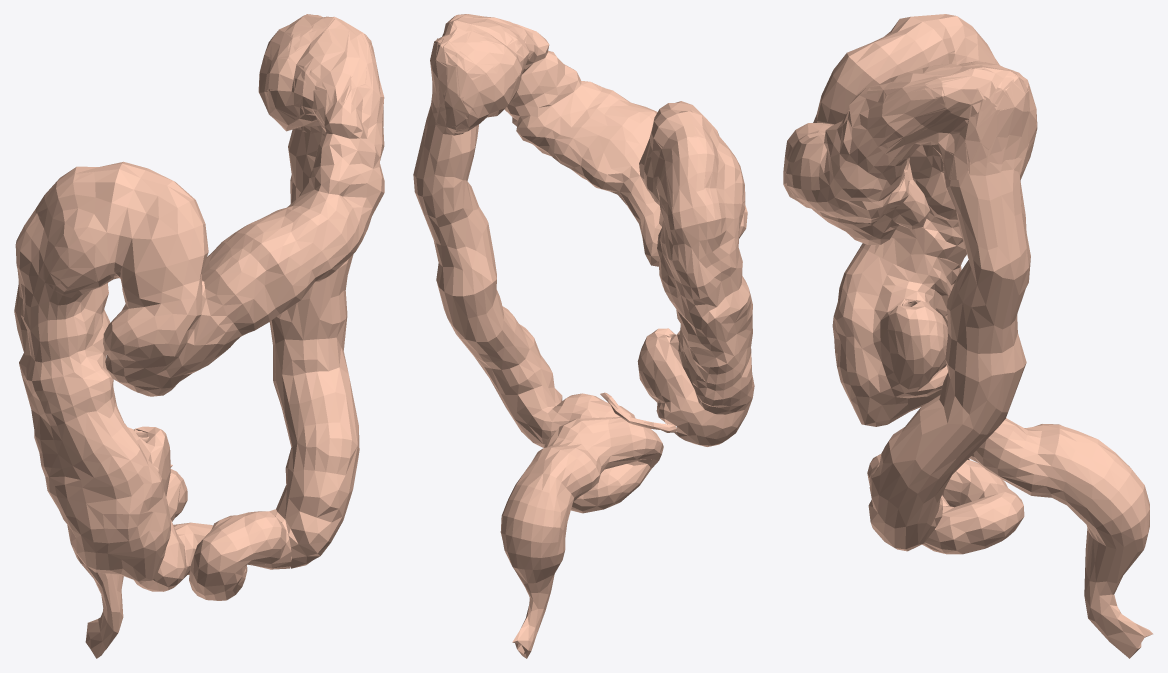
The model's file is SBU_M_Intestine_Large_0.4.glb.
3 views of the same model, side by side, from view 1: azimuth 30°, elevation 25°; view 2: azimuth 150°, elevation 25°; view 3: azimuth 270°, elevation 25° (orthographic). The views are drawn at different scales.
Parts seen in each view (by area): view 1: VH_M_transverse_colon, VH_M_ascending_colon, VH_M_descending_colon, VH_M_caecum, VH_M_hepatic_flexure_of_colon, VH_M_sigmoid_colon, VH_M_splenic_flexure_of_colon, VH_M_rectum; view 2: VH_M_descending_colon, VH_M_ascending_colon, VH_M_transverse_colon, VH_M_rectum, VH_M_sigmoid_colon, VH_M_caecum, VH_M_splenic_flexure_of_colon, VH_M_hepatic_flexure_of_colon, VH_M_vermiform_appendix; view 3: VH_M_descending_colon, VH_M_transverse_colon, VH_M_caecum, VH_M_rectum, VH_M_sigmoid_colon, VH_M_splenic_flexure_of_colon, VH_M_ascending_colon, VH_M_hepatic_flexure_of_colon.
Boxes of the visible parts, x1=… form: VH_M_transverse_colon: x1=103, y1=14, x2=384, y2=396; VH_M_ascending_colon: x1=14, y1=162, x2=124, y2=468; VH_M_descending_colon: x1=265, y1=14, x2=359, y2=568; VH_M_caecum: x1=41, y1=424, x2=170, y2=582; VH_M_hepatic_flexure_of_colon: x1=24, y1=162, x2=208, y2=300; VH_M_sigmoid_colon: x1=134, y1=469, x2=291, y2=600; VH_M_splenic_flexure_of_colon: x1=258, y1=15, x2=384, y2=135; VH_M_rectum: x1=67, y1=525, x2=123, y2=658; VH_M_descending_colon: x1=413, y1=38, x2=562, y2=447; VH_M_ascending_colon: x1=647, y1=111, x2=752, y2=384; VH_M_transverse_colon: x1=439, y1=14, x2=747, y2=266; VH_M_rectum: x1=500, y1=445, x2=599, y2=658; VH_M_sigmoid_colon: x1=542, y1=393, x2=663, y2=513; VH_M_caecum: x1=637, y1=328, x2=754, y2=446; VH_M_splenic_flexure_of_colon: x1=430, y1=14, x2=533, y2=135; VH_M_hepatic_flexure_of_colon: x1=639, y1=101, x2=745, y2=230; VH_M_vermiform_appendix: x1=600, y1=392, x2=676, y2=432; VH_M_descending_colon: x1=868, y1=71, x2=1037, y2=551; VH_M_transverse_colon: x1=783, y1=62, x2=1013, y2=244; VH_M_caecum: x1=832, y1=247, x2=951, y2=426; VH_M_rectum: x1=1031, y1=424, x2=1152, y2=658; VH_M_sigmoid_colon: x1=867, y1=418, x2=1042, y2=554; VH_M_splenic_flexure_of_colon: x1=867, y1=61, x2=1037, y2=179; VH_M_ascending_colon: x1=860, y1=14, x2=996, y2=290; VH_M_hepatic_flexure_of_colon: x1=816, y1=14, x2=999, y2=124.
Size of the model in its own units: 0.2599 by 0.452 by 0.2262.
